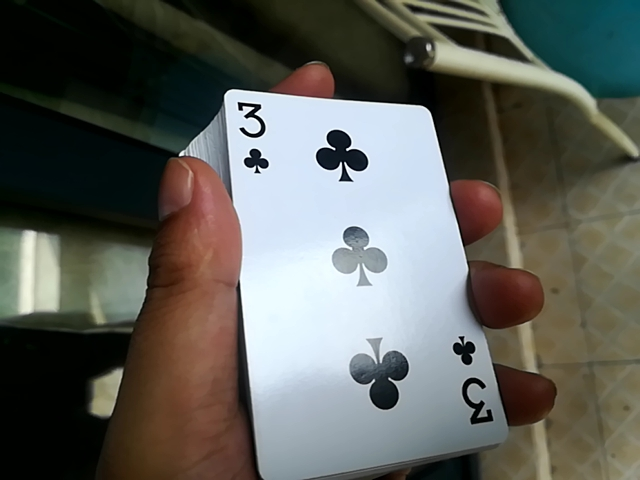mh 3: (199, 88, 488, 475)
